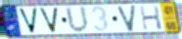3: (90, 5, 111, 34)
H: (138, 5, 164, 31)
U: (64, 5, 91, 35)
V: (17, 7, 40, 35), (38, 7, 61, 34), (116, 5, 137, 33)
